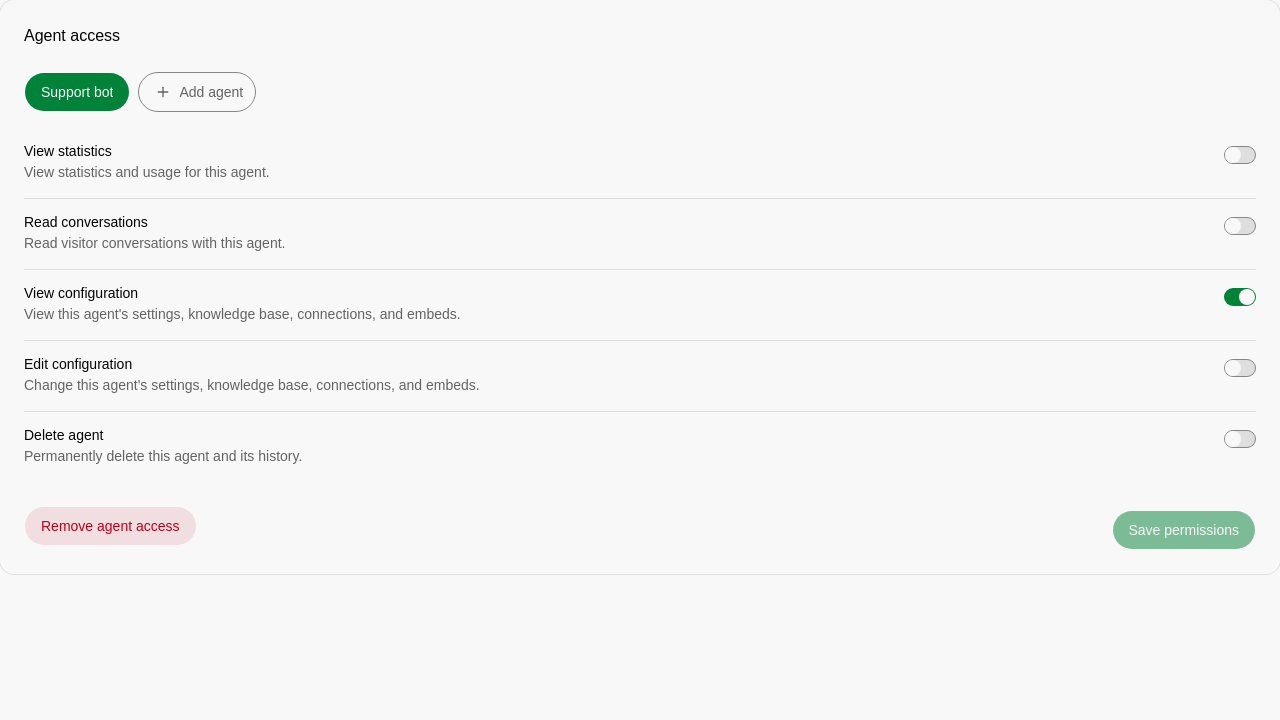
Scenario: RoleAccessCard › shows the latest operation's failure and keeps the draft
Click the switch named "View statistics" at (1240, 155), box x1=1224 y1=146 x2=1256 y2=164
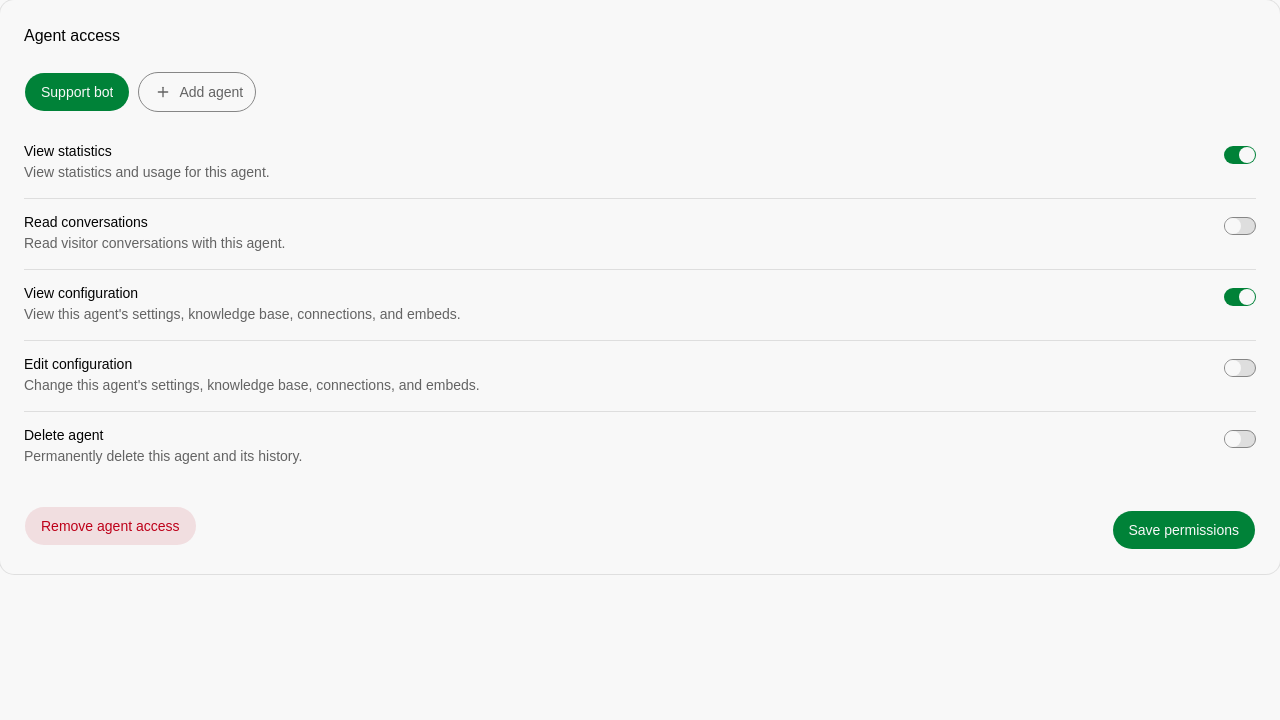
Click the button "Save permissions" at (1184, 530), box x1=1112 y1=510 x2=1256 y2=550
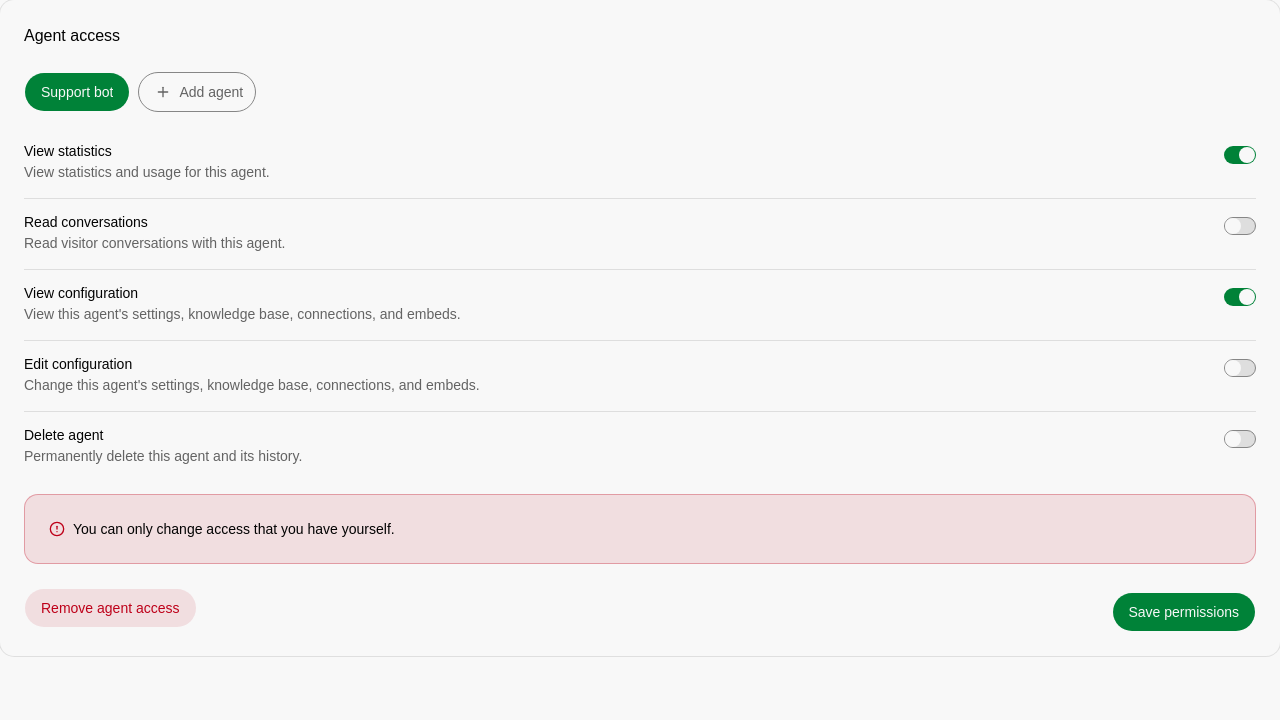
Now the message "You can only change access that you have yourself." is shown, box x1=24 y1=494 x2=1256 y2=564
Click the button "Remove agent access" at (110, 608), box x1=24 y1=588 x2=196 y2=628
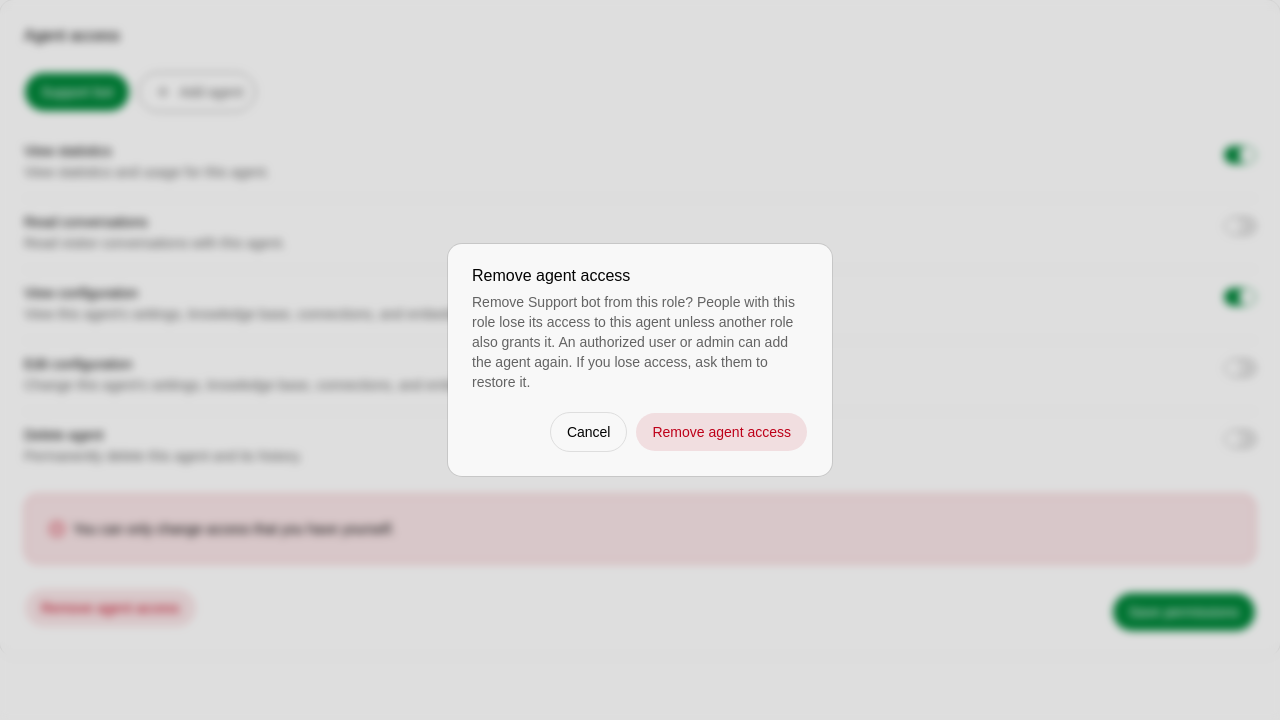
Click the button "Remove agent access" at (722, 432), box x1=636 y1=412 x2=808 y2=452
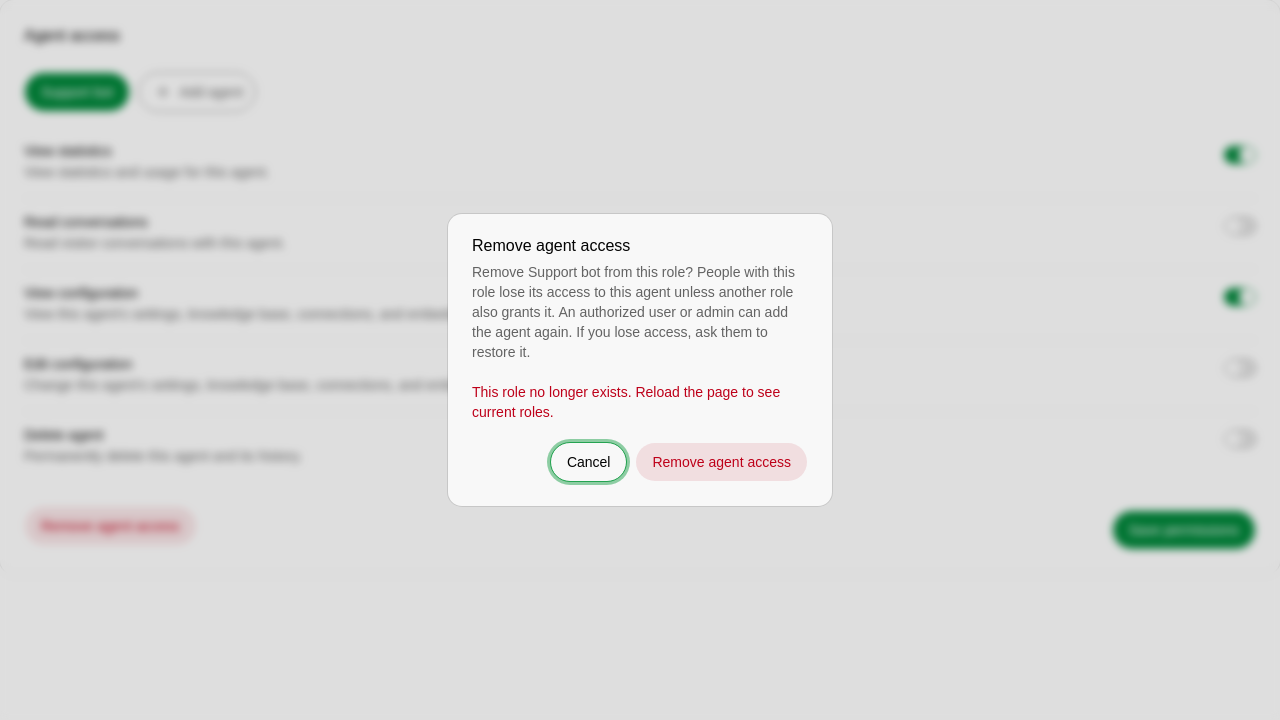
Now the message "This role no longer exists. Reload the page to see current roles." is shown, box x1=472 y1=382 x2=808 y2=422
